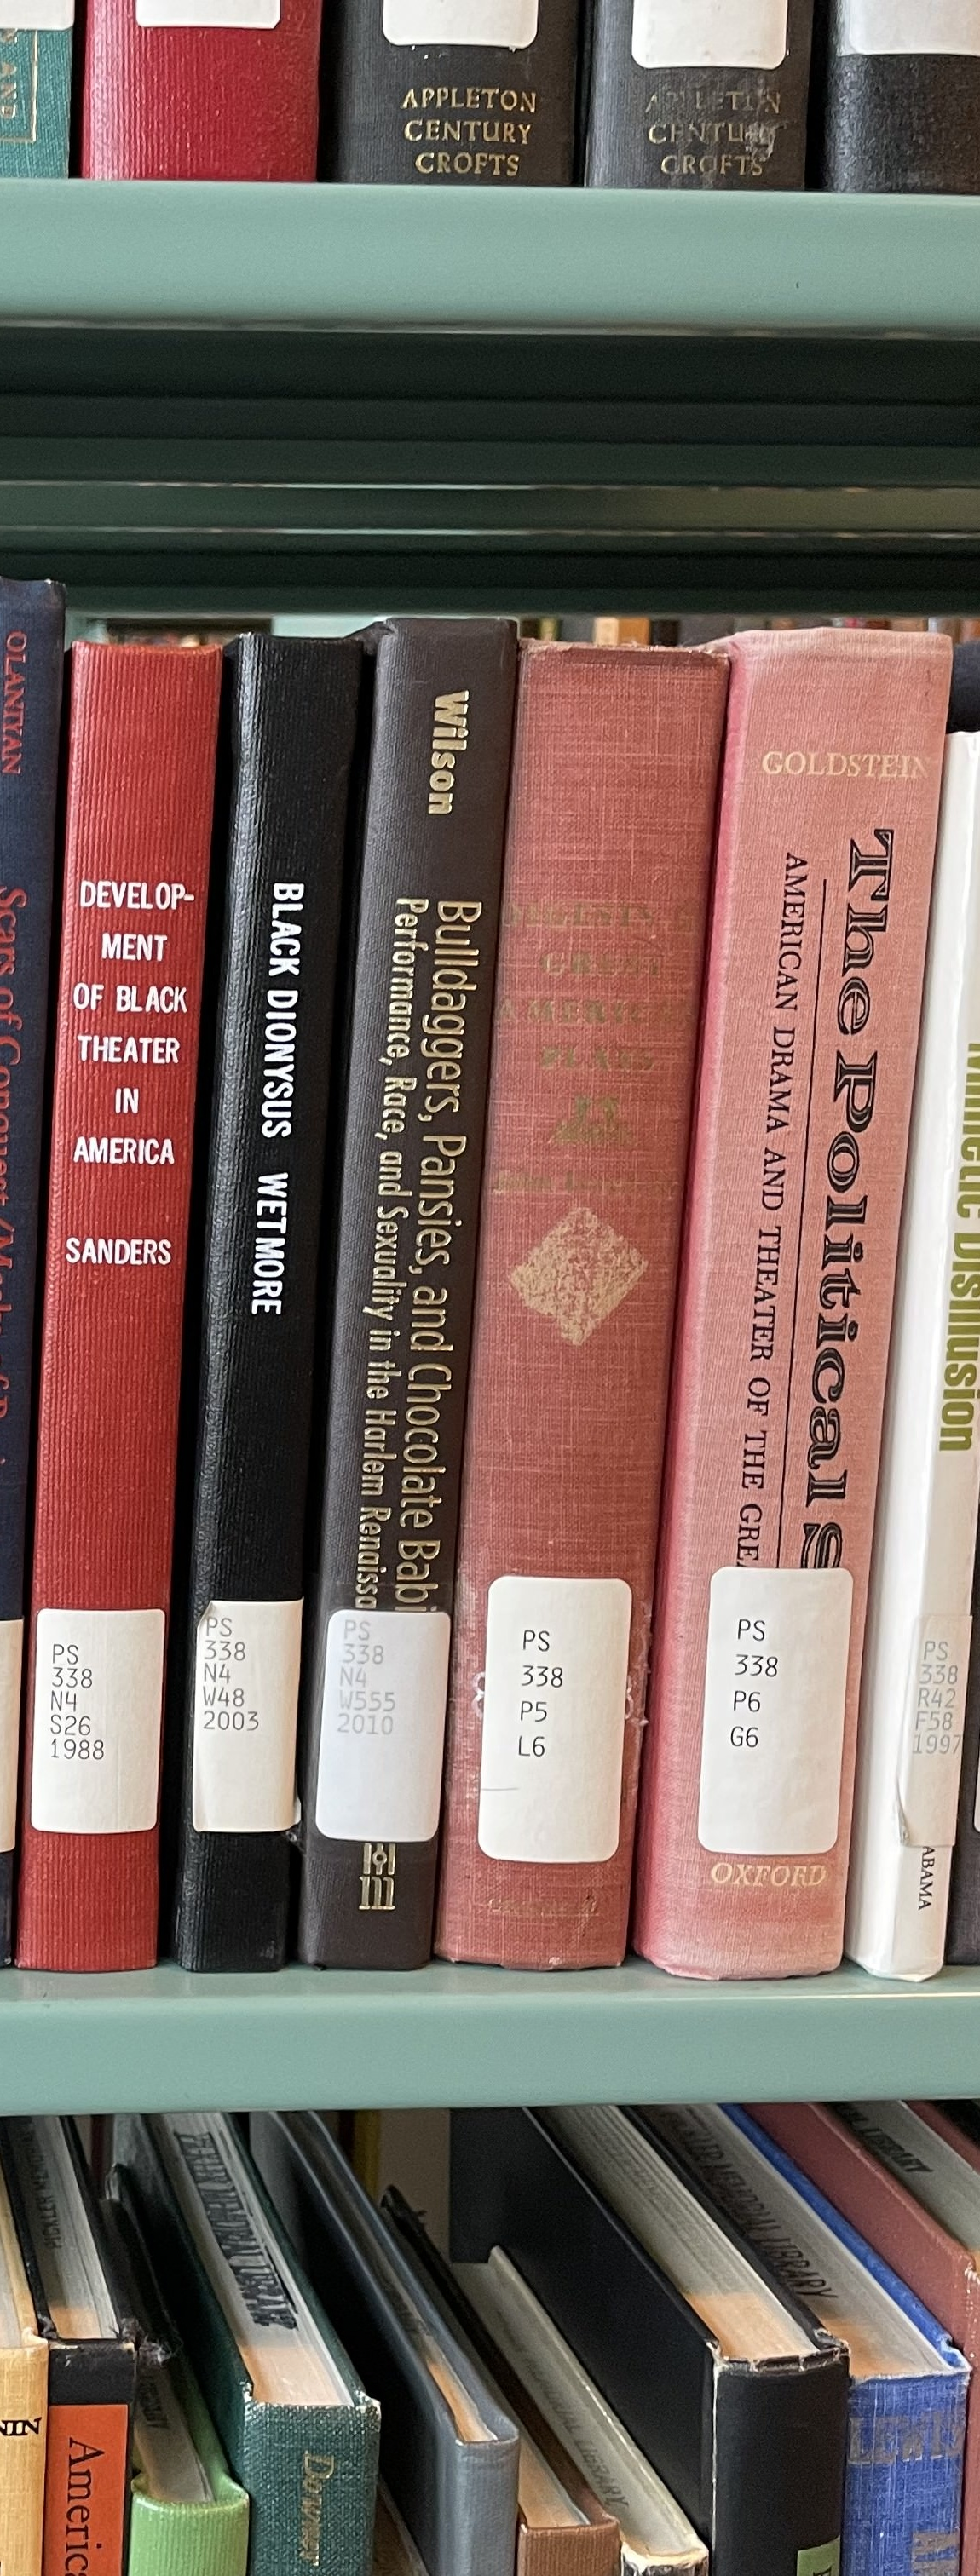call_number: (705, 1567, 835, 1853), (487, 1584, 618, 1858), (30, 1613, 164, 1845), (331, 1612, 436, 1835), (196, 1598, 296, 1830), (904, 1617, 965, 1842)
